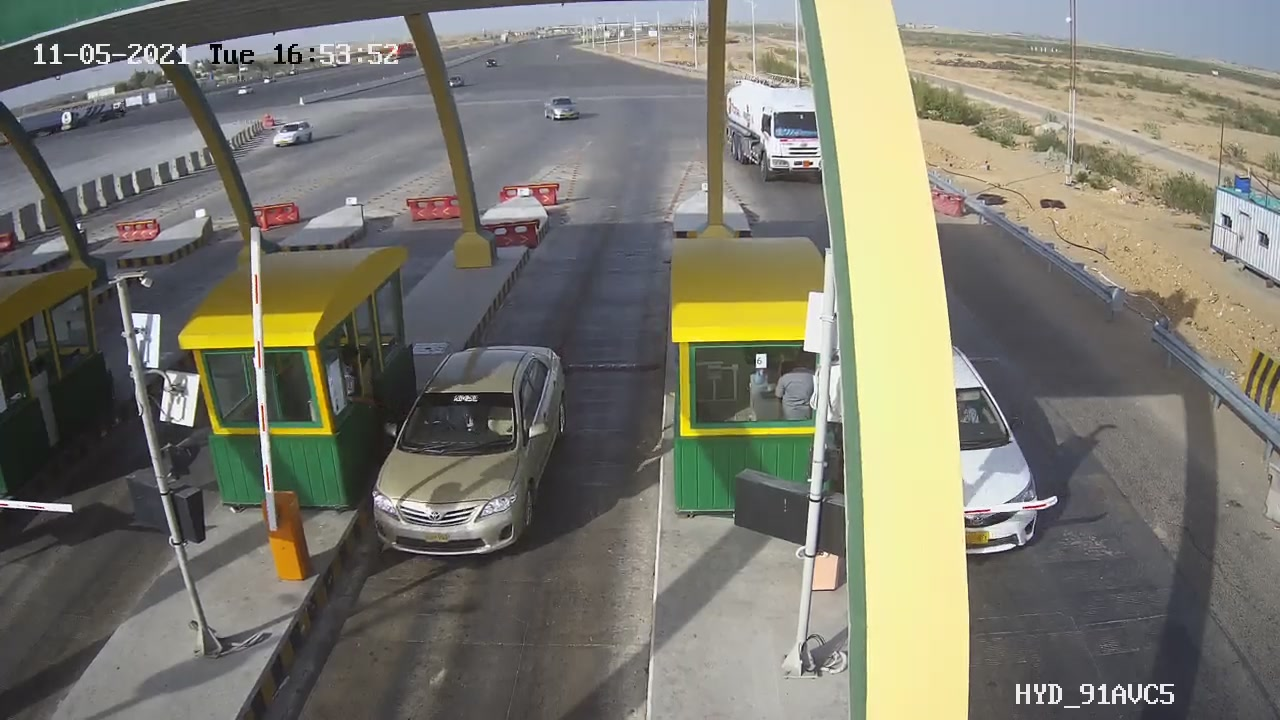F1: (353, 325, 591, 581)
